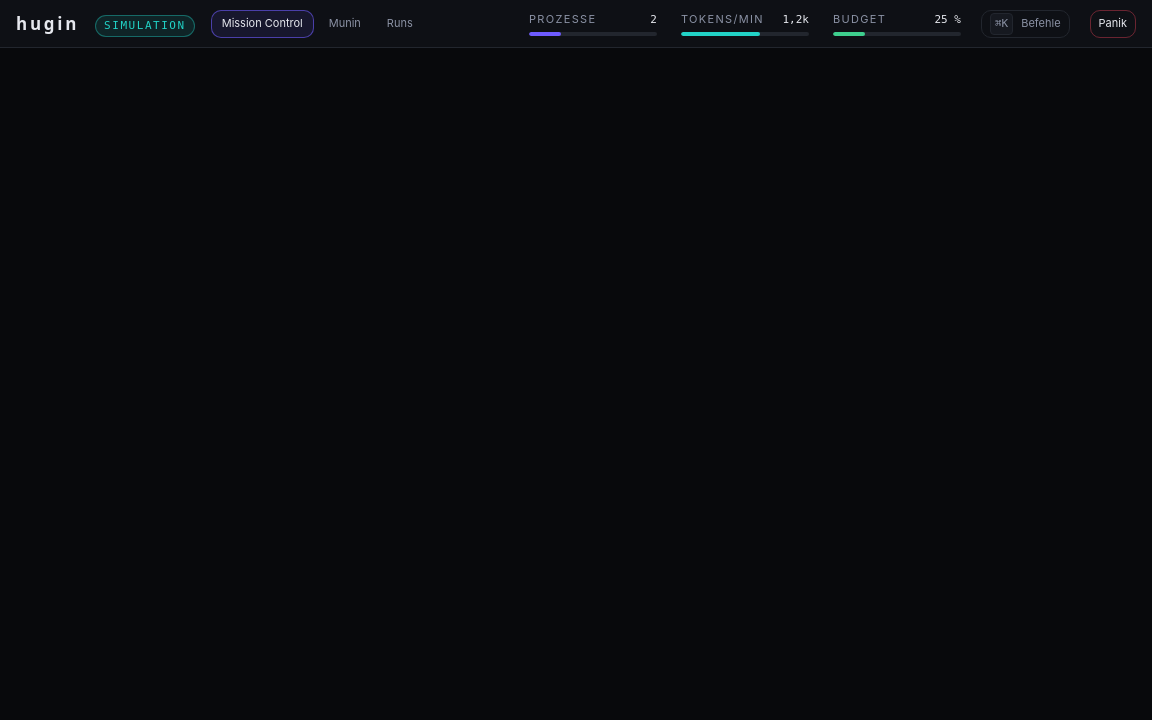
Test case: TopBar › asks before killing and only then reports the confirmation
This screenshot has width=1152, height=720.
Click the button "Panik" at x=1113, y=24, box x1=1090 y1=10 x2=1136 y2=38
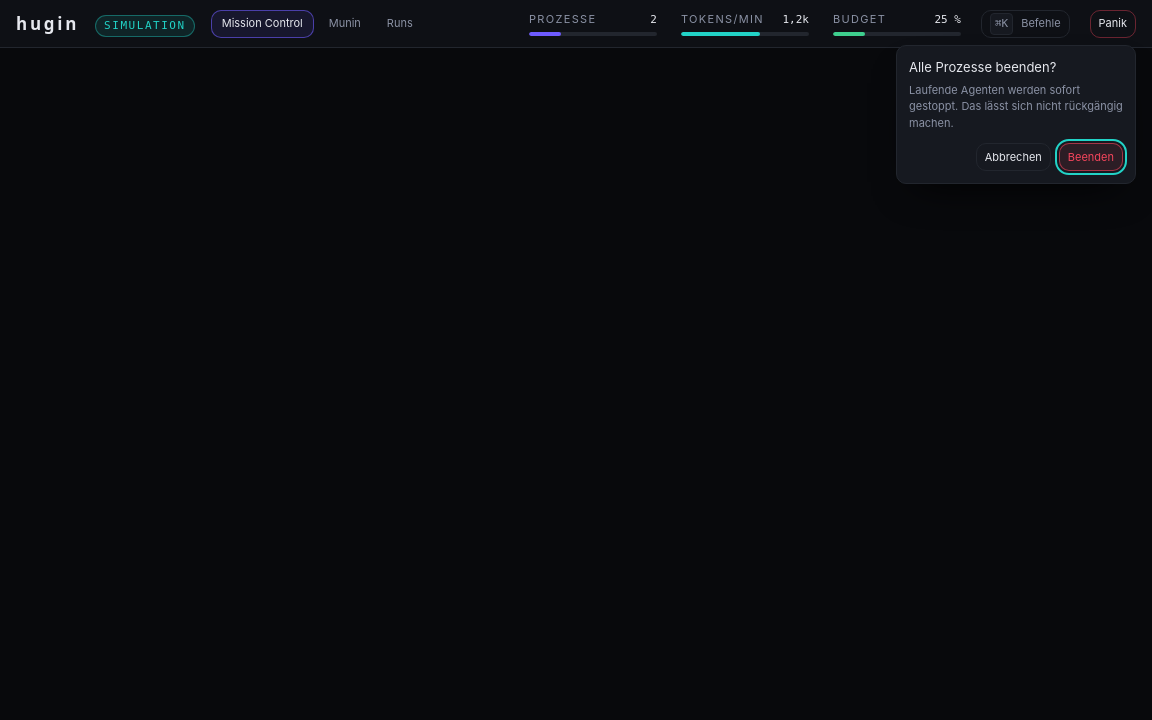
Expected: the text "Alle Prozesse beenden?" is shown, x1=909 y1=59 x2=1056 y2=75
Click the button "Beenden" at x=1091, y=157, box x1=1059 y1=143 x2=1123 y2=171
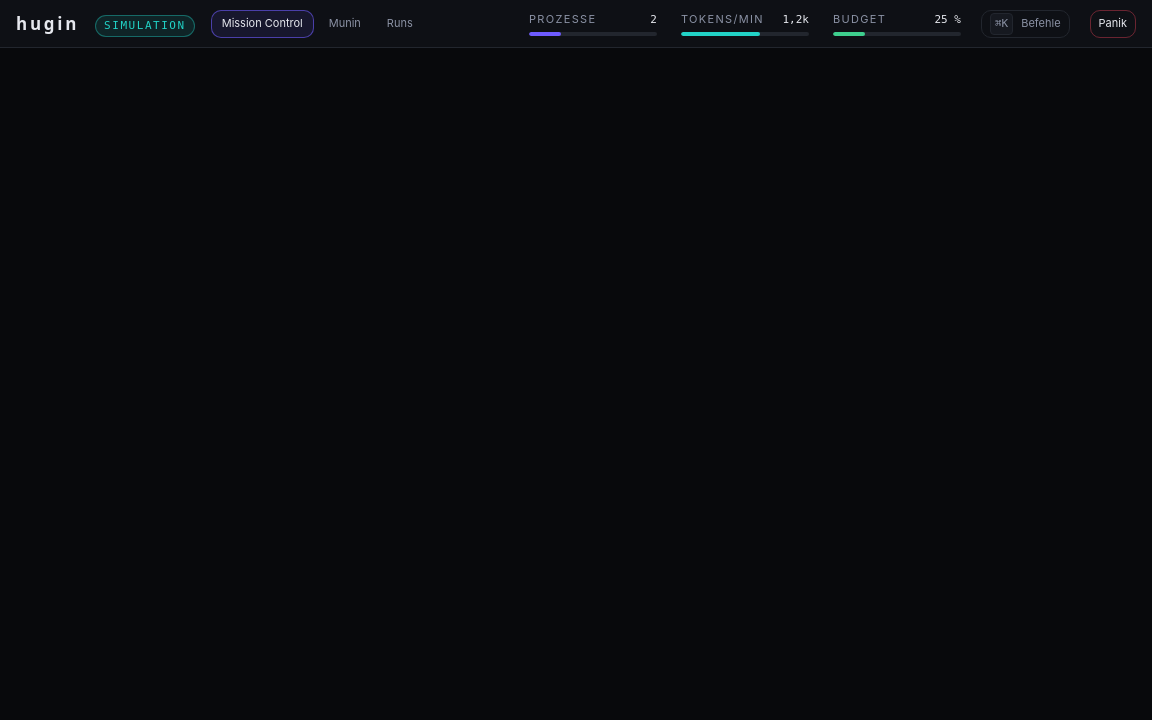
Expected: the text "Alle Prozesse beenden?" is gone
